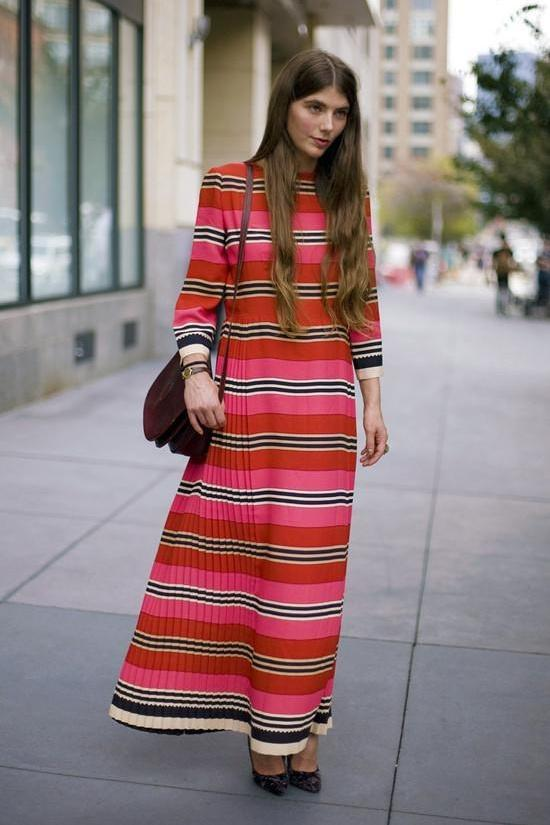dress: (112, 161, 384, 758)
